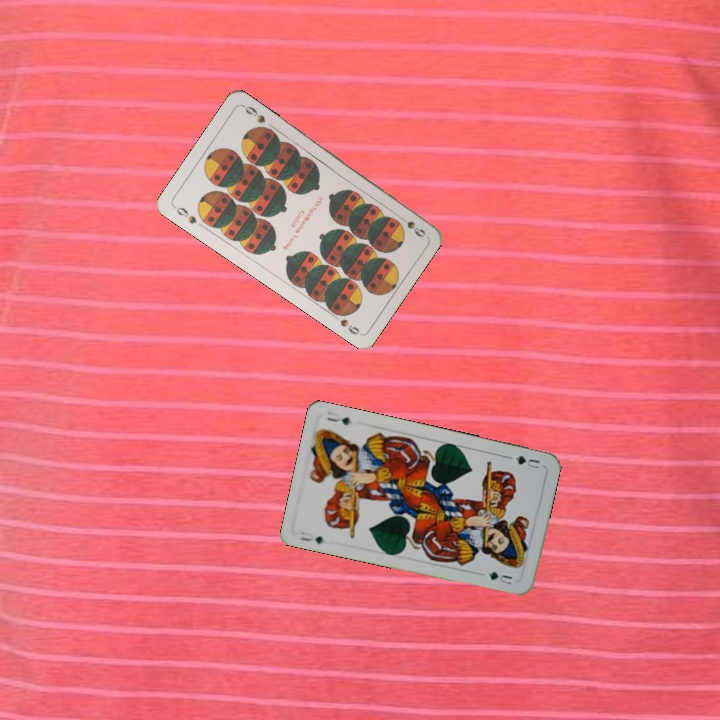GU: (511, 451, 542, 471), (295, 527, 326, 547)
S9: (393, 210, 428, 240), (170, 202, 199, 227)
